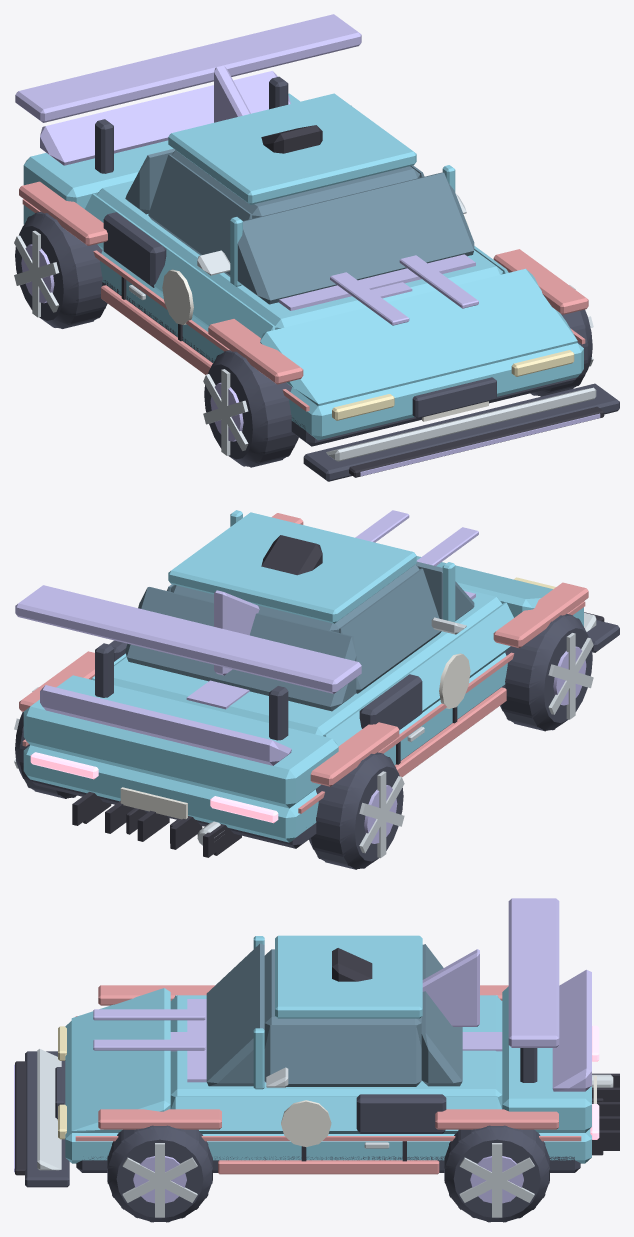
File: straightaway_star.fbx
The picture shows the model from 3 angles, top to bottom: view 1: azimuth 30°, elevation 25°; view 2: azimuth 150°, elevation 25°; view 3: azimuth 270°, elevation 25°; orthographic projection. The views are drawn at different scales.
Visible parts, largest first — view 1: Body, Glass, Accent2, Trim2, Accent, Wheel_FR, Wheel_RR, Light, Accent4, Metal, Trim, Light2 (+3 smaller); view 2: Body, Accent2, Glass, Accent, Trim2, Trim, Wheel_RR, Wheel_FR, Metal, Light, Accent3, Light3 (+3 smaller); view 3: Body, Glass, Accent2, Accent, Trim2, Wheel_FL, Wheel_RL, Metal, Trim, Light, Accent4, Accent3 (+3 smaller).
Part boxes in pixels (x1=…): Body: x1=23, y1=93, x2=583, y2=440; Glass: x1=125, y1=105, x2=474, y2=304; Accent2: x1=15, y1=14, x2=475, y2=310; Trim2: x1=95, y1=76, x2=619, y2=481; Accent: x1=19, y1=181, x2=588, y2=411; Wheel_FR: x1=204, y1=350, x2=298, y2=467; Wheel_RR: x1=15, y1=211, x2=107, y2=328; Light: x1=330, y1=255, x2=600, y2=476; Accent4: x1=197, y1=193, x2=596, y2=461; Metal: x1=14, y1=230, x2=593, y2=455; Trim: x1=121, y1=125, x2=604, y2=477; Light2: x1=332, y1=350, x2=574, y2=420; Body: x1=23, y1=510, x2=583, y2=842; Accent2: x1=15, y1=585, x2=475, y2=765; Glass: x1=125, y1=518, x2=474, y2=711; Accent: x1=19, y1=513, x2=588, y2=813; Trim2: x1=31, y1=620, x2=619, y2=848; Trim: x1=72, y1=535, x2=604, y2=857; Wheel_RR: x1=309, y1=752, x2=403, y2=869; Wheel_FR: x1=500, y1=614, x2=592, y2=731; Metal: x1=14, y1=633, x2=593, y2=858; Light: x1=186, y1=510, x2=478, y2=709; Accent3: x1=120, y1=653, x2=470, y2=819; Light3: x1=30, y1=752, x2=278, y2=823; Body: x1=65, y1=935, x2=591, y2=1163; Glass: x1=206, y1=943, x2=462, y2=1086; Accent2: x1=187, y1=898, x2=591, y2=1091; Accent: x1=75, y1=985, x2=581, y2=1174; Trim2: x1=25, y1=1048, x2=580, y2=1187; Wheel_FL: x1=107, y1=1125, x2=212, y2=1222; Wheel_RL: x1=444, y1=1125, x2=549, y2=1222; Metal: x1=122, y1=1074, x2=613, y2=1217; Trim: x1=15, y1=948, x2=619, y2=1175; Light: x1=14, y1=1009, x2=502, y2=1172; Accent4: x1=37, y1=1049, x2=288, y2=1170; Accent3: x1=57, y1=1075, x2=596, y2=1147.
Size of the model in its own units: 3.2 by 1.99 by 5.41.
